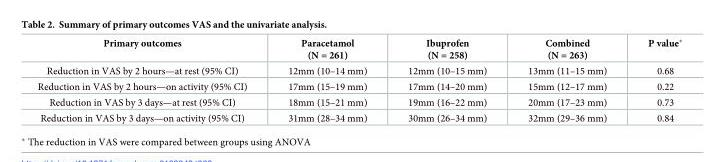table: (36, 36, 681, 123)
table column: (36, 36, 266, 123), (266, 36, 386, 123), (386, 36, 506, 123), (506, 36, 626, 123), (626, 36, 681, 123)
table column header: (36, 36, 681, 62)
table row: (36, 36, 681, 62), (36, 62, 681, 78), (36, 78, 681, 94), (36, 94, 681, 110), (36, 110, 681, 123)
